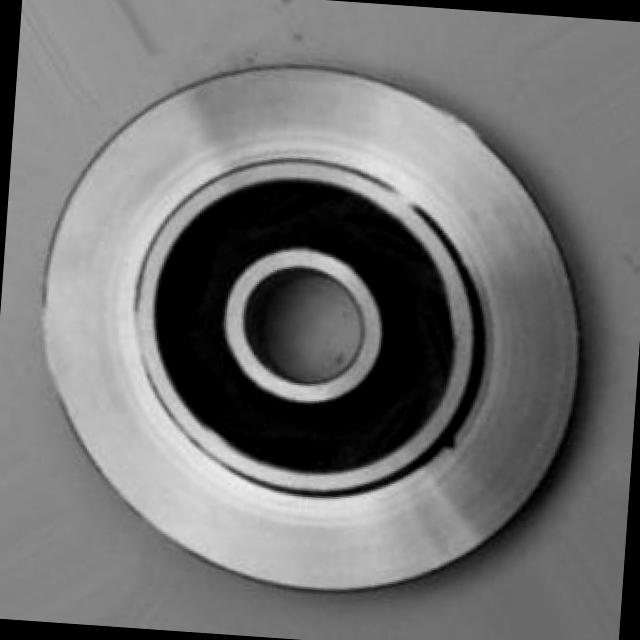Defect: (439, 424, 460, 448)
